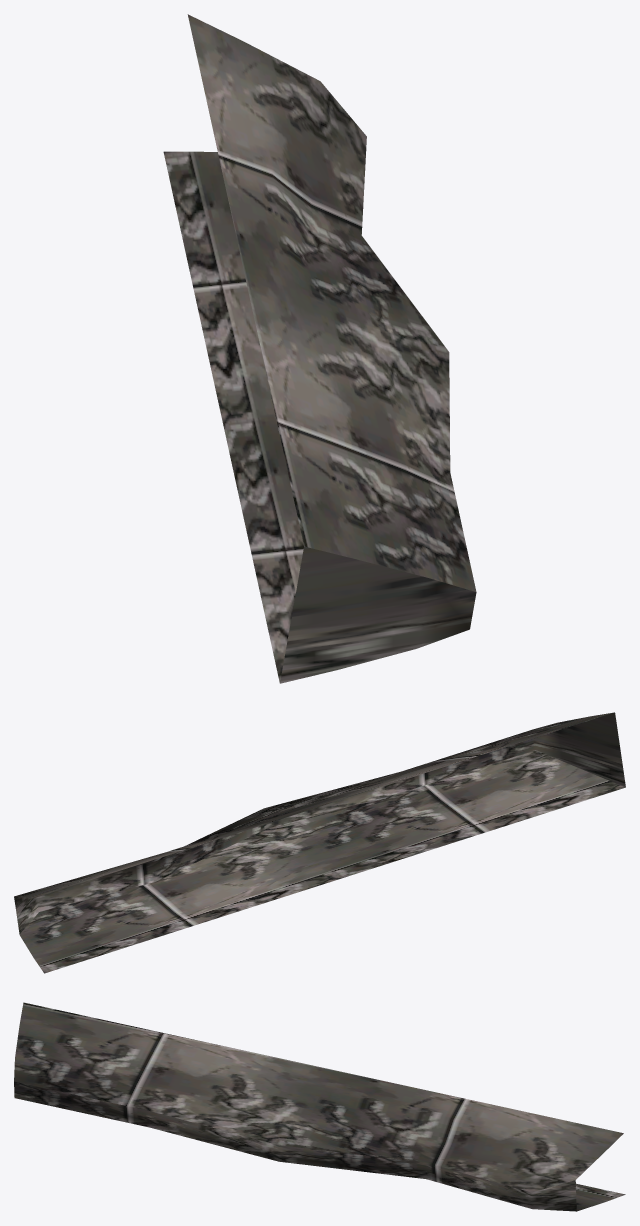
Rendered from CH09_SMAUG_PLAYSURFACE_LAIR44.fbx.
3 views of the same model, one above another, from view 1: azimuth 30°, elevation 25°; view 2: azimuth 150°, elevation 25°; view 3: azimuth 270°, elevation 25° (orthographic). The views are drawn at different scales.
Visible parts, largest first — view 1: CH09_SMAUG_PLAYSURFACE_LAIR44; view 2: CH09_SMAUG_PLAYSURFACE_LAIR44; view 3: CH09_SMAUG_PLAYSURFACE_LAIR44.
Part boxes in pixels (x1=…): CH09_SMAUG_PLAYSURFACE_LAIR44: x1=163, y1=14, x2=476, y2=683; CH09_SMAUG_PLAYSURFACE_LAIR44: x1=14, y1=712, x2=625, y2=973; CH09_SMAUG_PLAYSURFACE_LAIR44: x1=14, y1=1002, x2=625, y2=1211.
Size of the model in its own units: 28003 by 7161 by 50017.
1 material, 1 textured.
